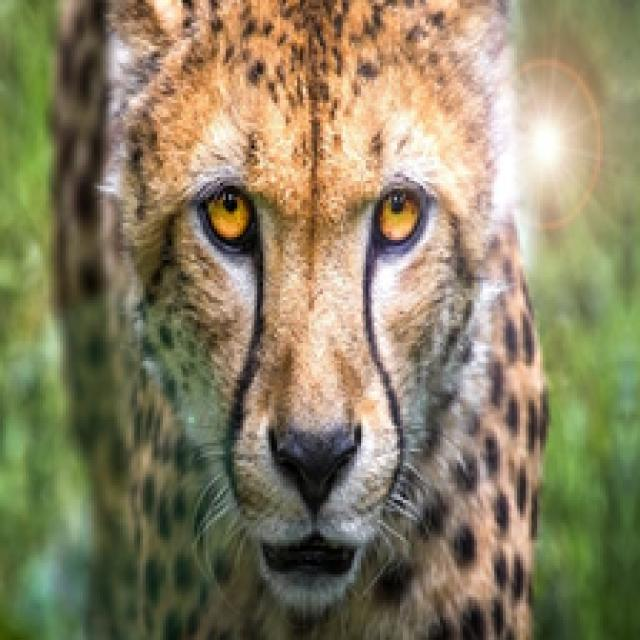cheetah: (54, 0, 548, 640)
